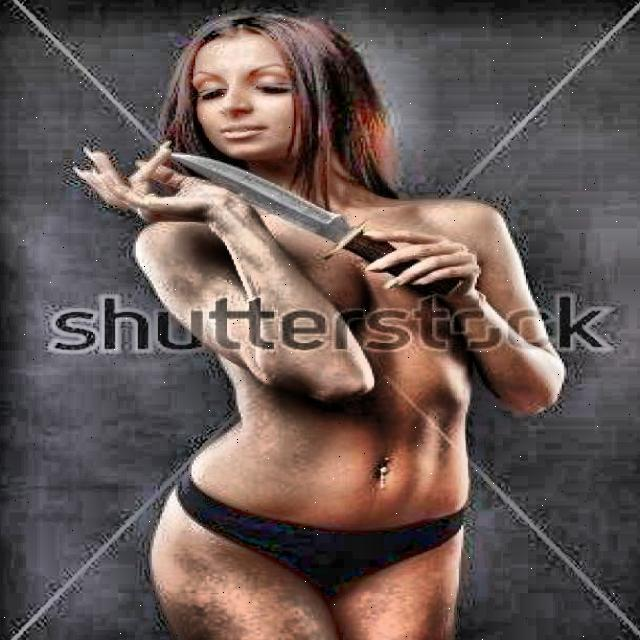knife: (168, 152, 460, 295)
